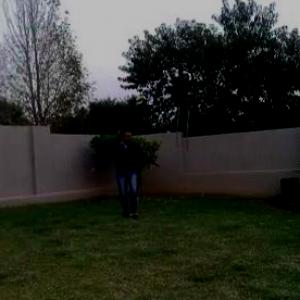land: (79, 103, 161, 234)
